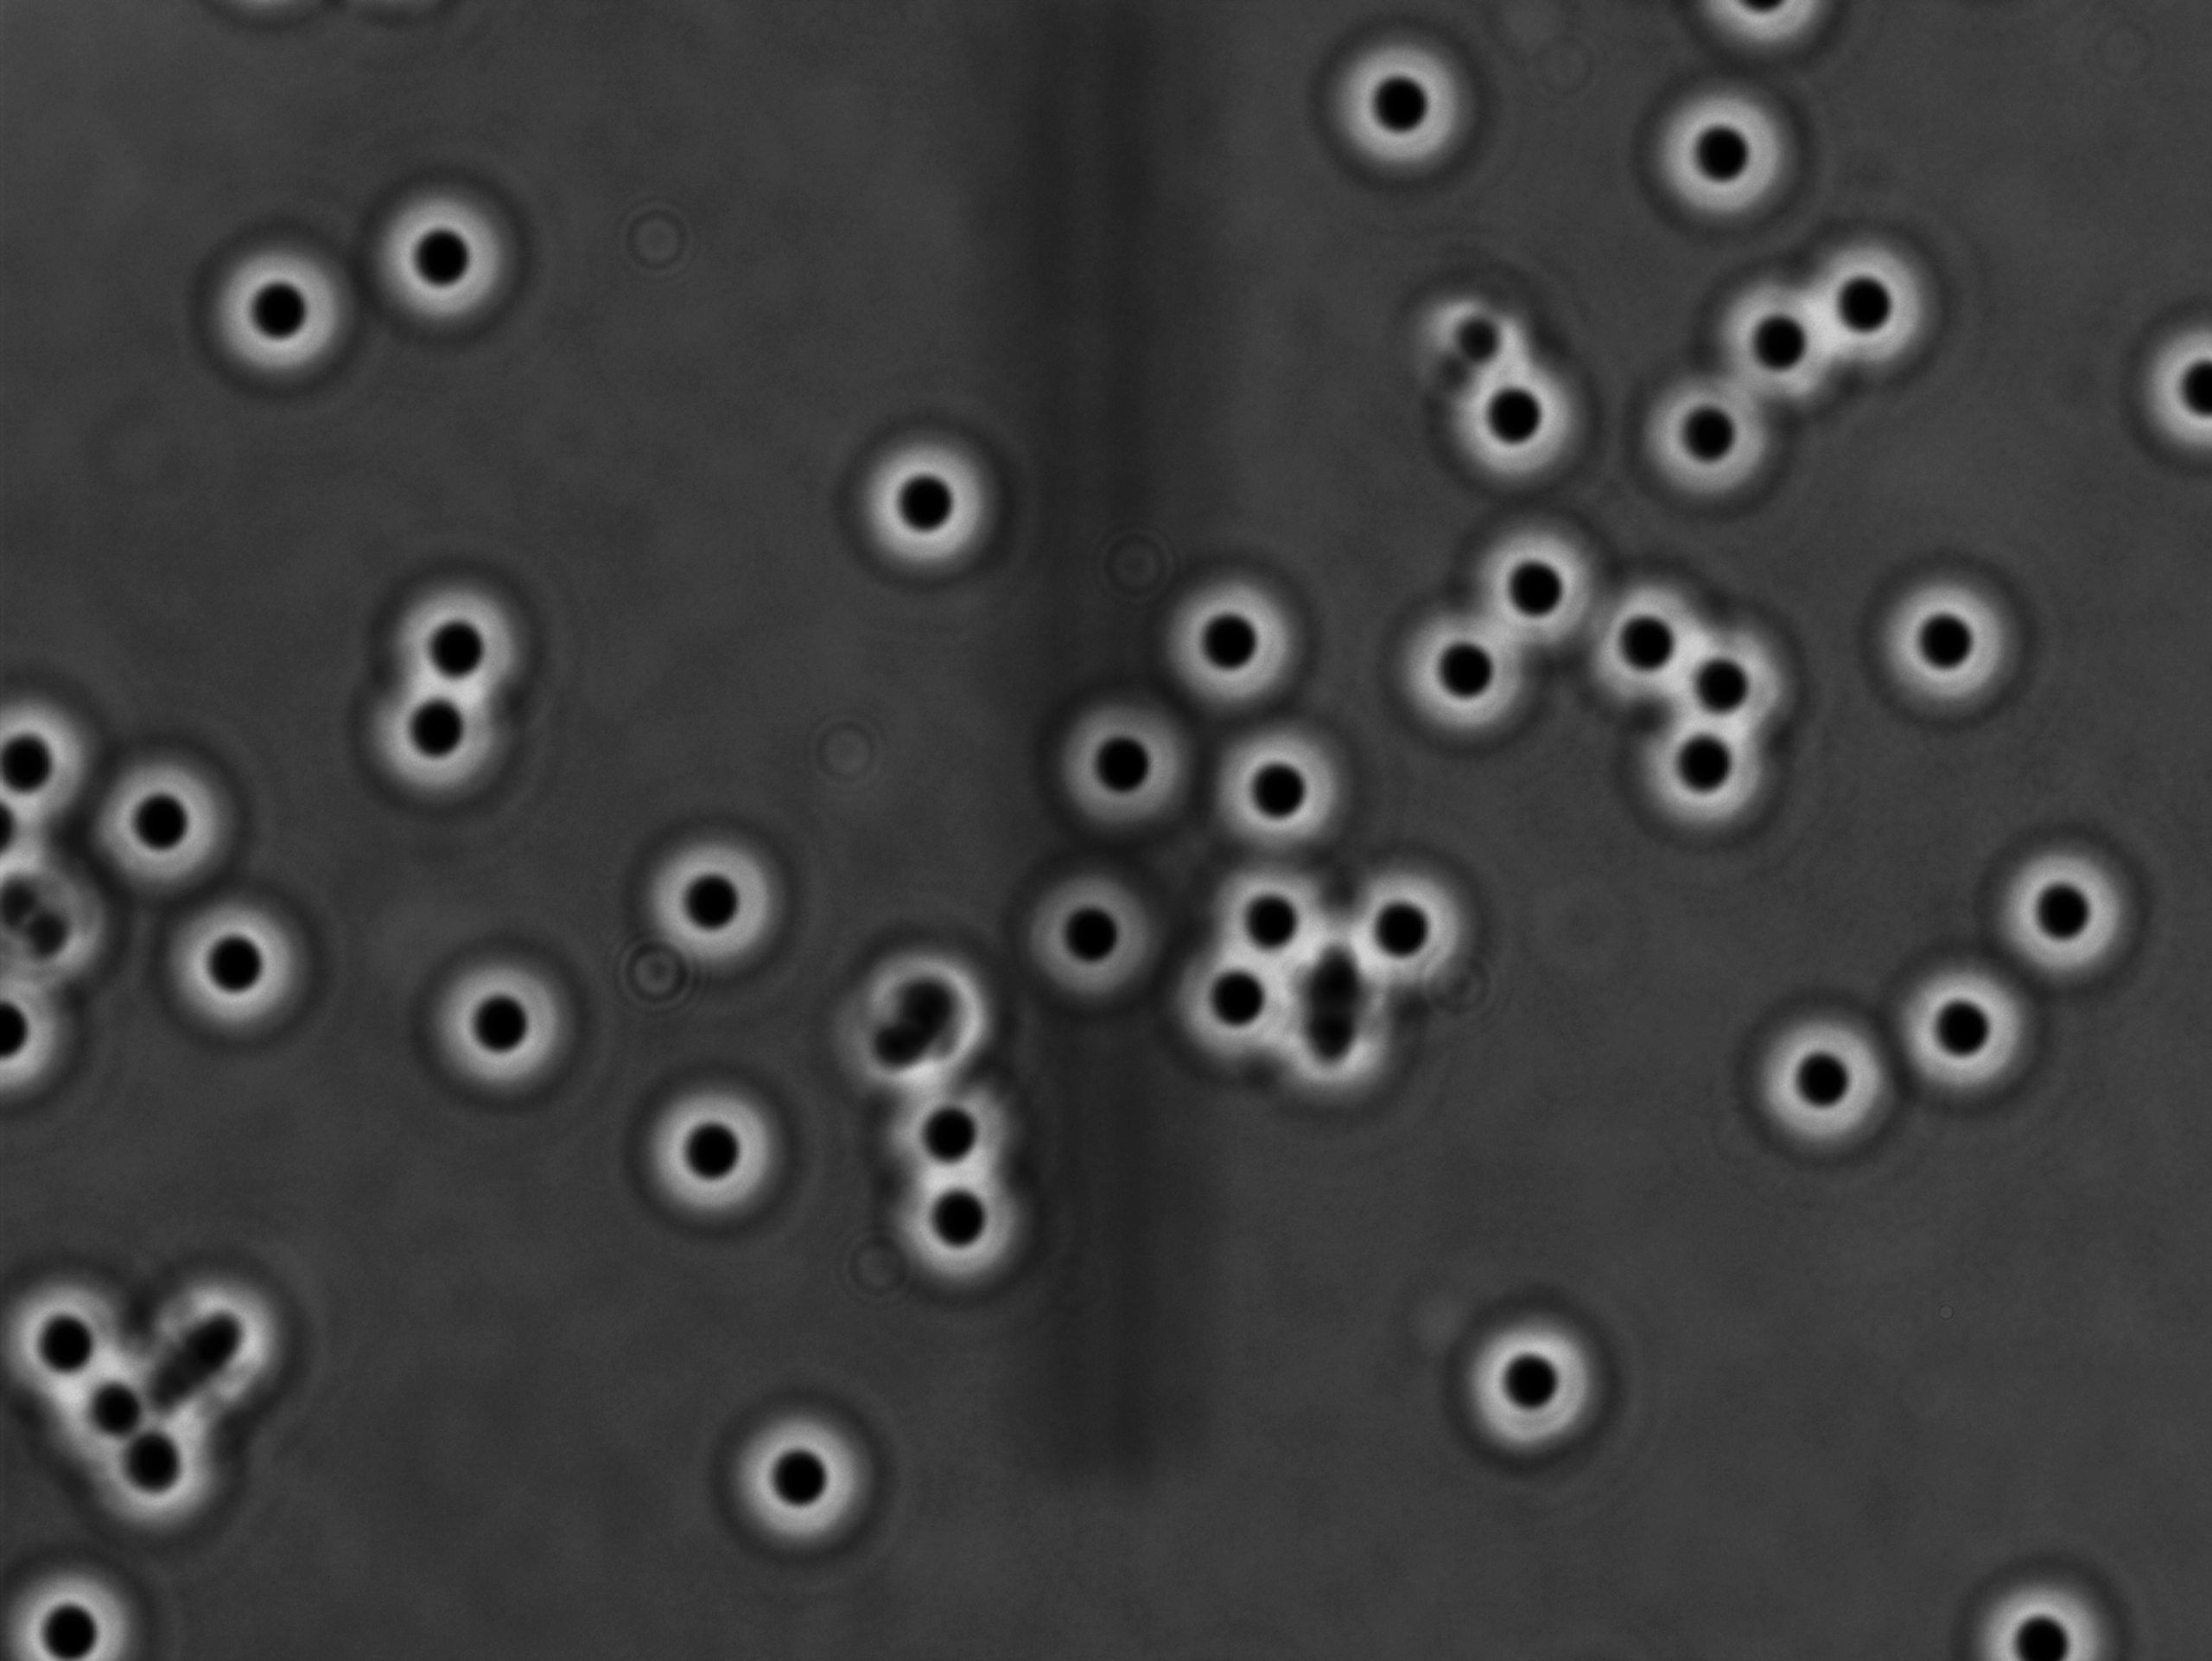depth:-60: (1436, 1286, 1638, 1480), (1861, 557, 2053, 748), (1636, 593, 1828, 785), (870, 1028, 1059, 1218), (344, 157, 534, 340), (1139, 551, 1335, 728), (87, 722, 270, 909), (836, 405, 1021, 588), (176, 218, 361, 400), (1179, 696, 1366, 872), (1676, 253, 1858, 433), (408, 947, 593, 1124), (1549, 553, 1731, 731), (841, 1160, 1036, 1324), (1867, 937, 2064, 1099), (1722, 995, 1900, 1174), (373, 558, 551, 733), (147, 892, 333, 1057), (1971, 822, 2151, 993), (623, 1064, 799, 1237), (1014, 850, 1195, 1017), (710, 1396, 886, 1567), (1624, 694, 1797, 865), (335, 656, 518, 817), (70, 1375, 251, 1534), (1621, 366, 1792, 534), (1778, 208, 1961, 363), (1188, 827, 1347, 1001), (1638, 79, 1802, 243), (1383, 590, 1551, 750), (1038, 675, 1198, 841), (1319, 37, 1488, 192), (1434, 354, 1601, 504), (630, 818, 790, 974), (1460, 515, 1622, 665), (35, 1326, 192, 1474), (1338, 850, 1497, 993), (1169, 940, 1317, 1089), (1943, 1560, 2137, 1661)
